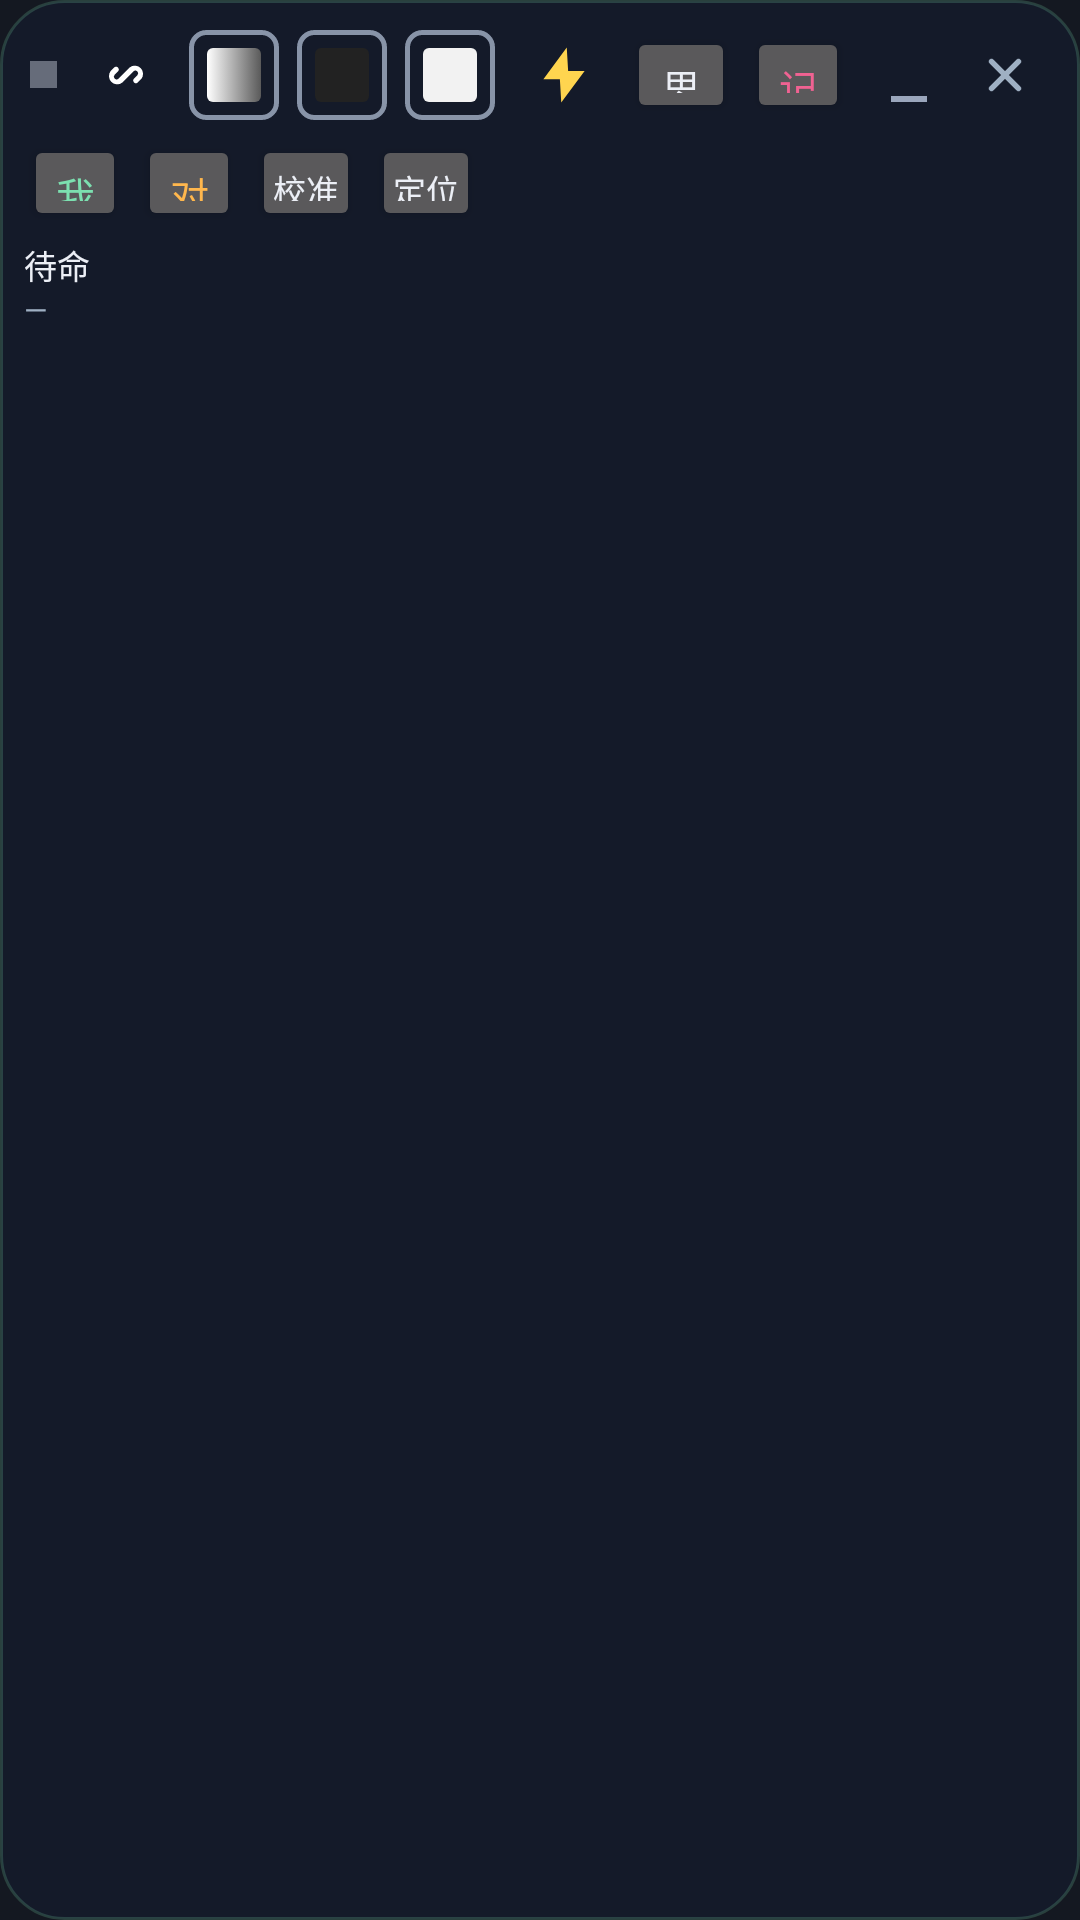

Screen size 1080*1920. Icon name, then its center in pixels as point (x, y):
关闭: point (1005, 75)
执白: point (450, 75)
执黑: point (342, 75)
立即落子: point (564, 75)
自动执子: point (234, 75)
连线: point (126, 75)
